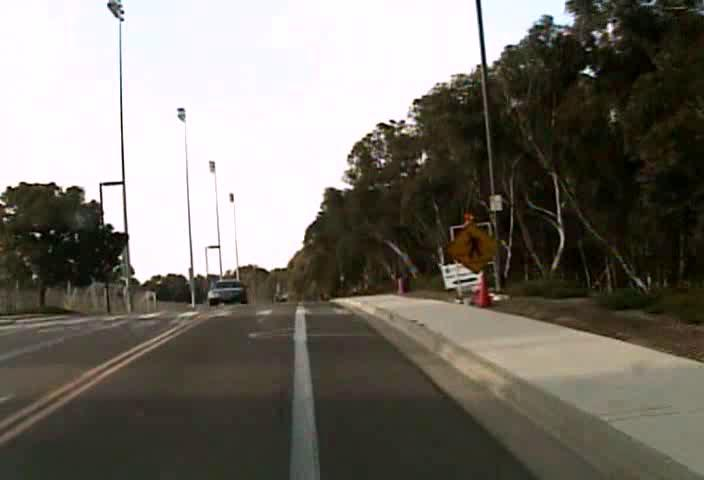pedestrianCrossing: (445, 220, 499, 273)
